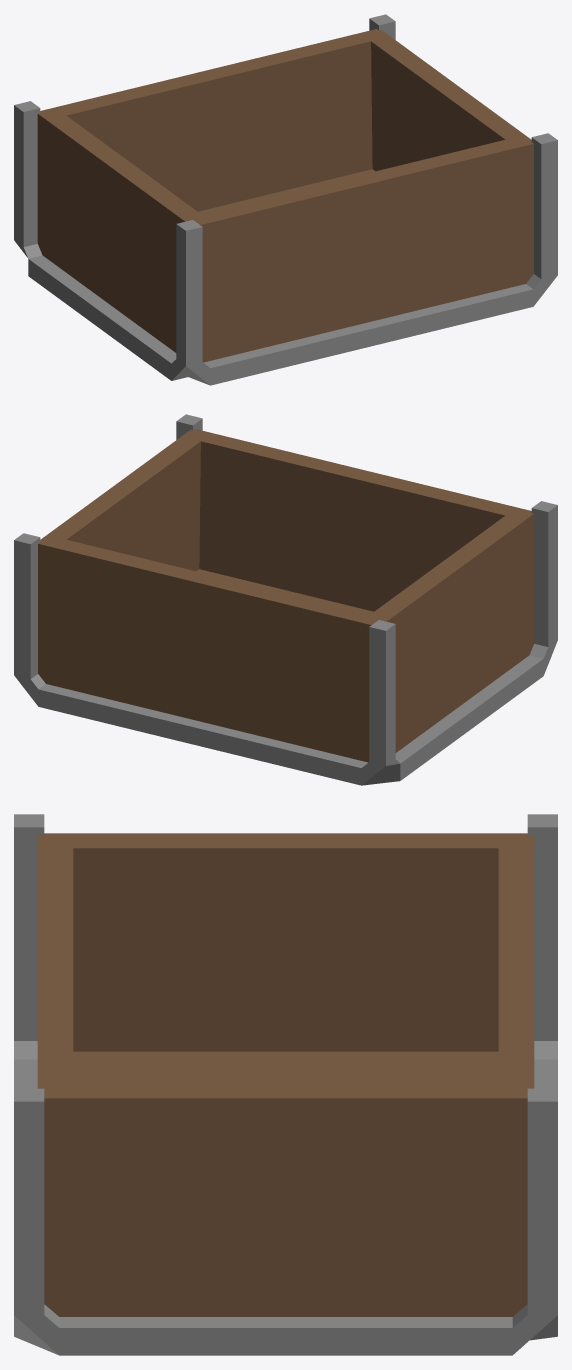
Rendered from chest.glb.
3 renders of one model, top to bottom at view 1: azimuth 30°, elevation 25°; view 2: azimuth 150°, elevation 25°; view 3: azimuth 270°, elevation 25°, orthographic. The views are drawn at different scales.
Visible parts, largest first — view 1: chest; view 2: chest; view 3: chest.
Part boxes in pixels (bbox=[...]): chest: bbox=[14, 14, 557, 385]; chest: bbox=[14, 414, 557, 785]; chest: bbox=[14, 814, 557, 1355].
Size of the model in its own units: 1.49 by 0.6152 by 1.19.
Materials: 1 (1 with a texture image).
